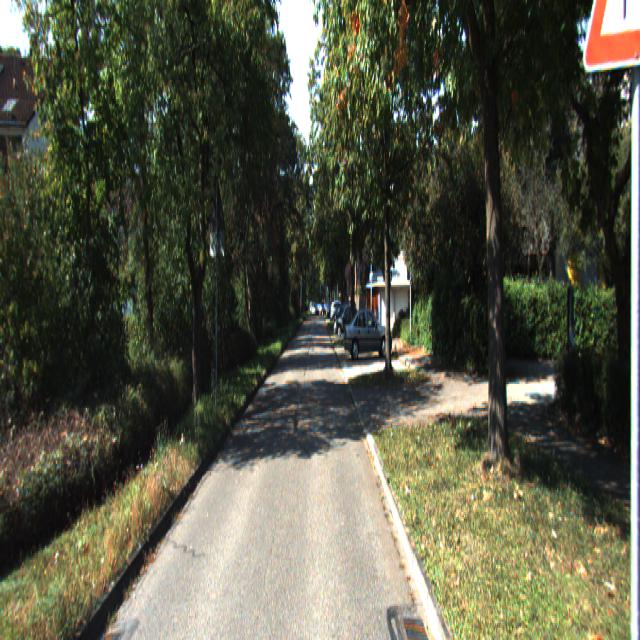Car: (343, 305, 392, 361), (335, 302, 362, 336)
